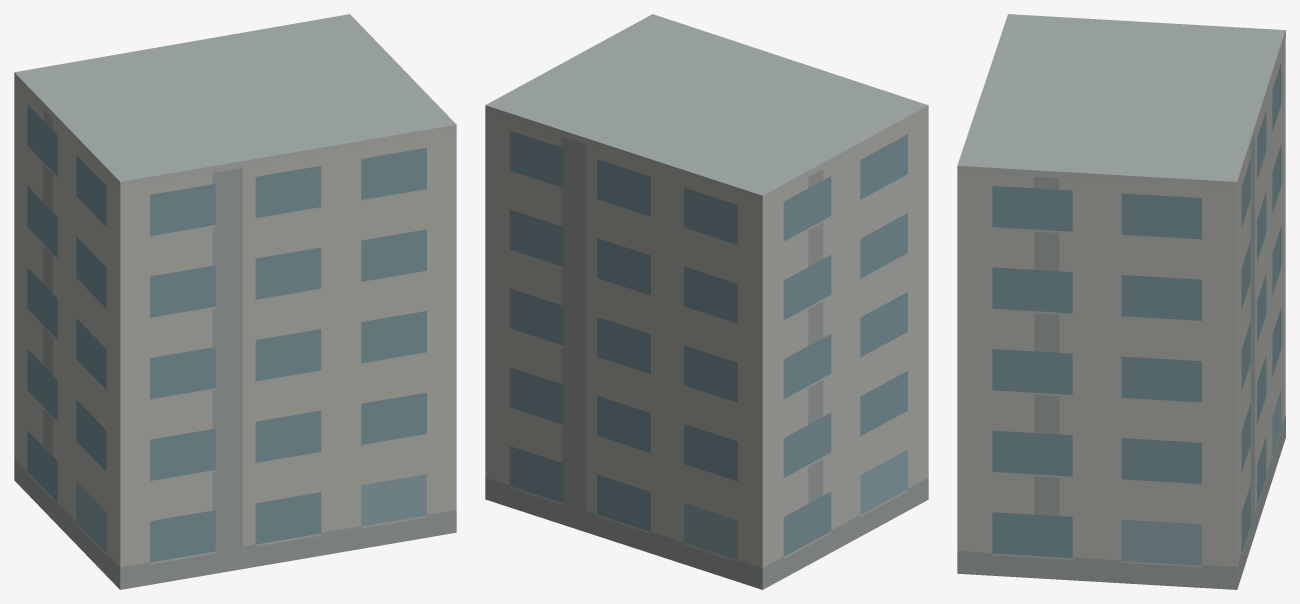
Rendered from survey-upis-33021697.glb.
3 views of the same model, side by side, from view 1: azimuth 30°, elevation 25°; view 2: azimuth 150°, elevation 25°; view 3: azimuth 270°, elevation 25° (orthographic). The views are drawn at different scales.
Visible parts, largest first — view 1: survey-upis-33021697.tmp; view 2: survey-upis-33021697.tmp; view 3: survey-upis-33021697.tmp.
Part boxes in pixels (left/top/right/bottom): survey-upis-33021697.tmp: left=14, top=14, right=456, bottom=589; survey-upis-33021697.tmp: left=485, top=14, right=928, bottom=589; survey-upis-33021697.tmp: left=957, top=14, right=1285, bottom=589.
Bounding box in the file's own units: 13.26 × 15 × 10.96.
